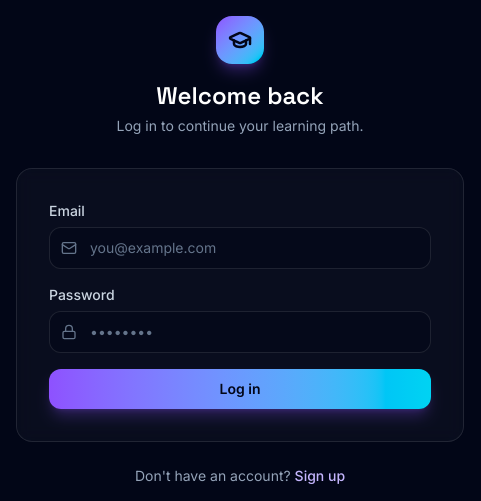
Login page (behavior) › disables the submit button and shows a loading label while submitting
Step 1. Type "jane@example.com" into the field labelled "Email" → (240, 248), box [49,227,431,269]
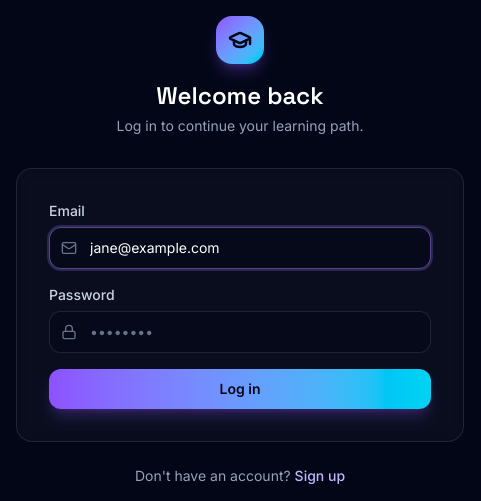
Step 2. Type "password123" into the password field labelled "Password" → (240, 332), box [49,311,431,353]
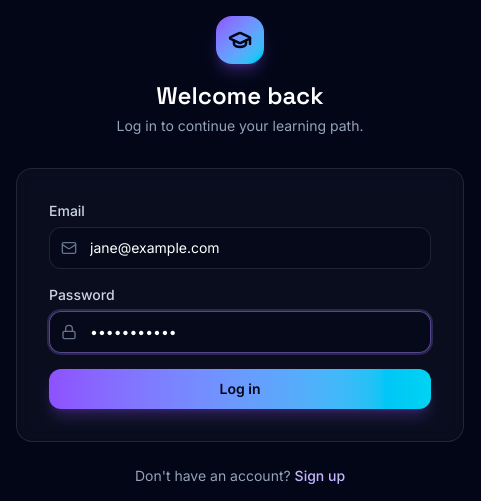
Step 3. Click the button "Log in" → click(240, 389), box [49,369,431,409]
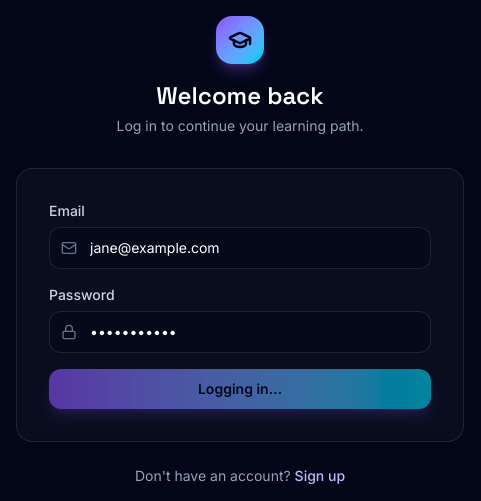
Now the button "Logging in…" is disabled, box [49,369,431,409]
